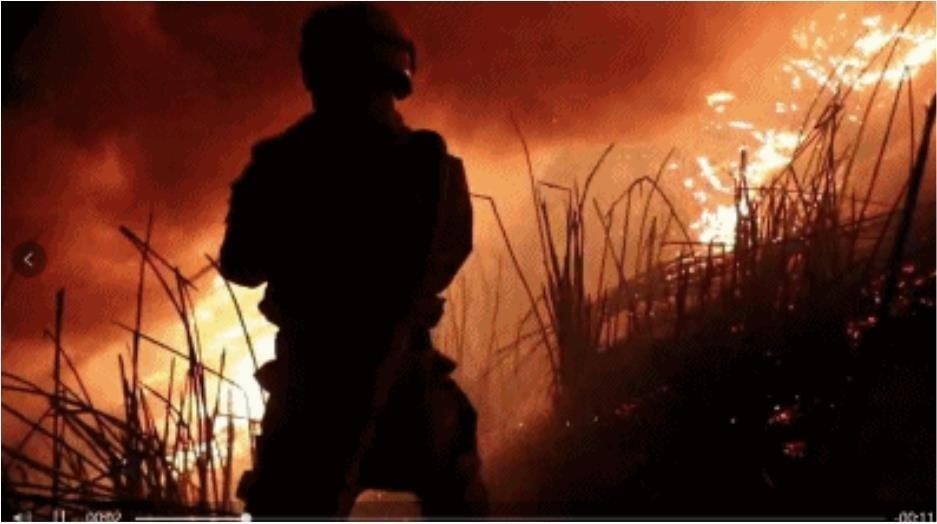fire: (684, 5, 935, 257), (127, 269, 279, 497)
